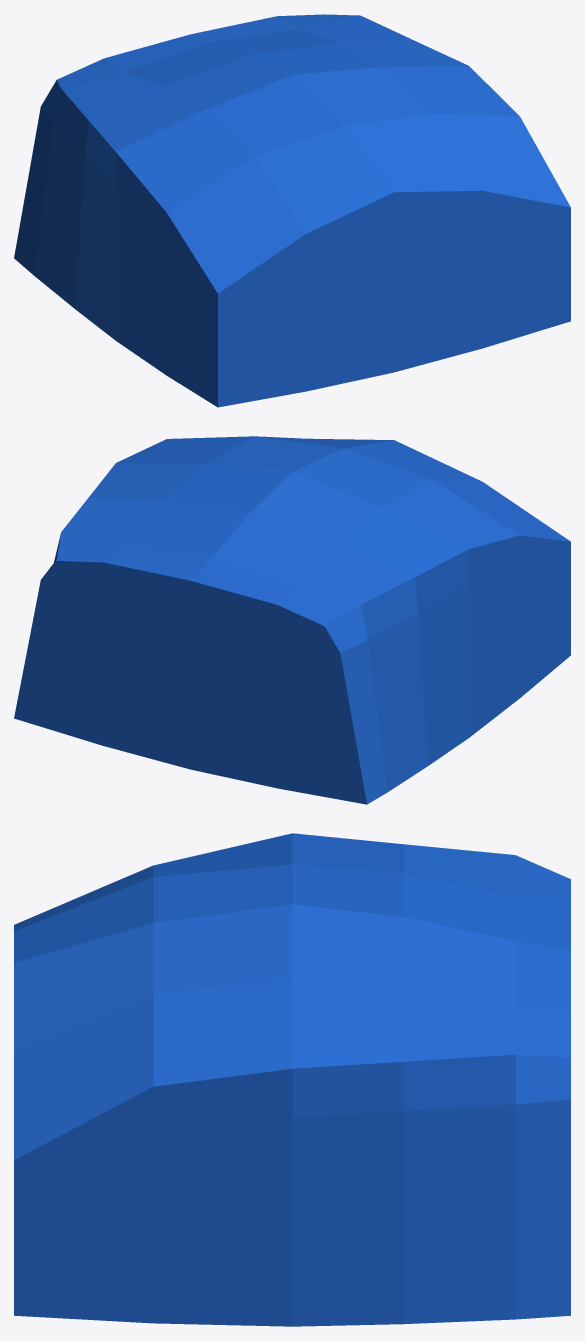
Rendered from PolyTank_Turret_Base_static.fbx.
The picture shows the model from 3 angles, top to bottom: view 1: azimuth 30°, elevation 25°; view 2: azimuth 150°, elevation 25°; view 3: azimuth 270°, elevation 25°; orthographic projection. The views are drawn at different scales.
Visible parts, largest first — view 1: TankBody; view 2: TankBody; view 3: TankBody.
Part boxes in pixels (x1,y1,x2,y2): TankBody: (14,14,570,407); TankBody: (14,436,570,804); TankBody: (14,833,570,1326).
Bounding box in the file's own units: 200 × 200 × 147.
